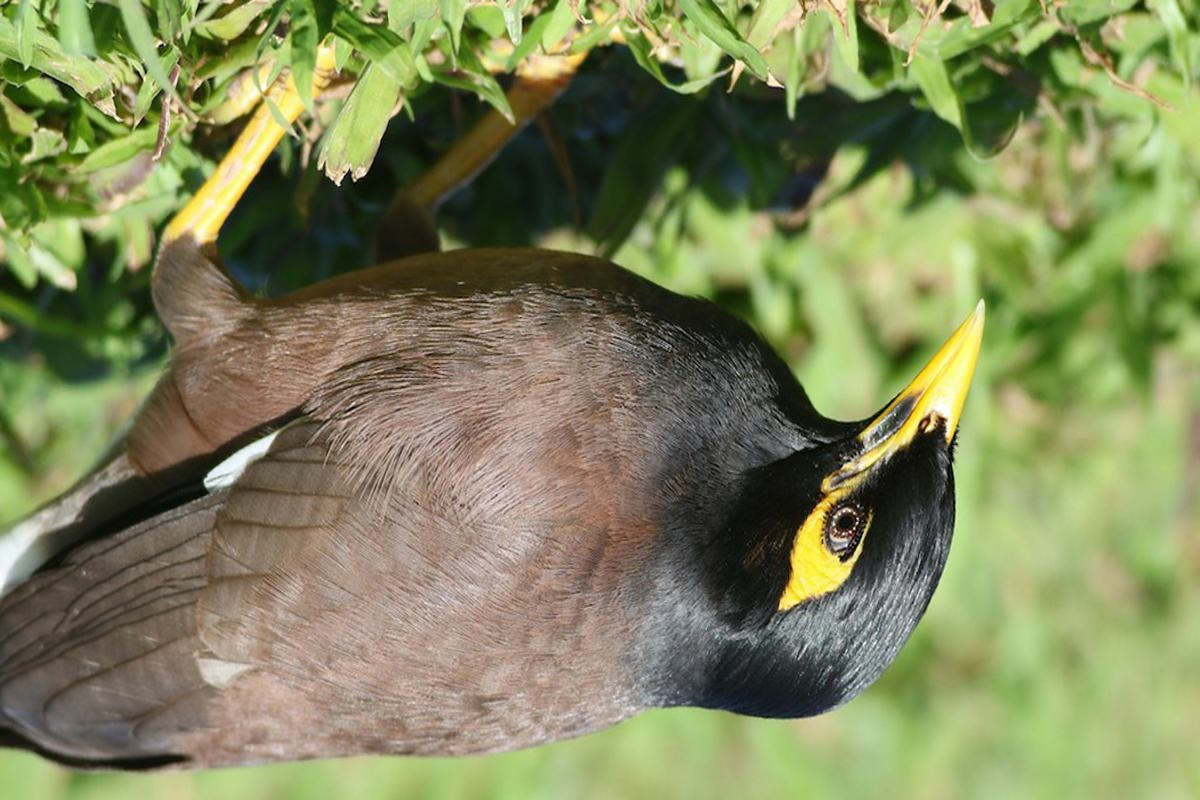myna: (47, 225, 1049, 800)
